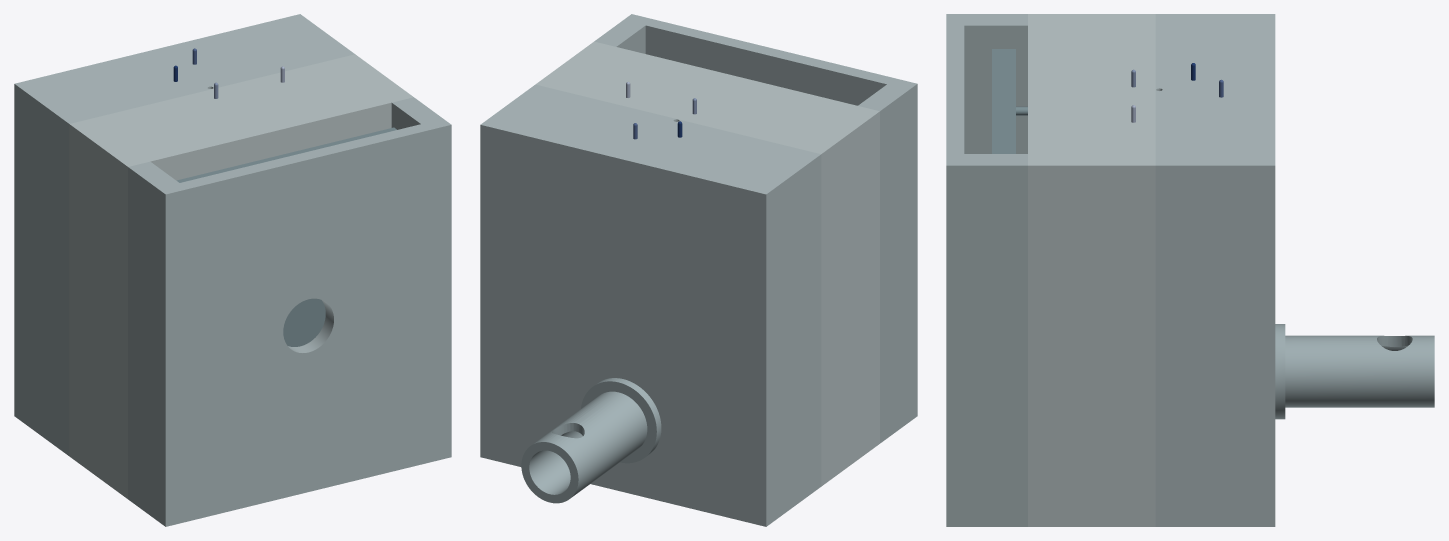
The model's file is die.glb.
The picture shows the model from 3 angles, left to right: view 1: azimuth 30°, elevation 25°; view 2: azimuth 150°, elevation 25°; view 3: azimuth 270°, elevation 25°; orthographic projection. The views are drawn at different scales.
Parts seen in each view (by area): view 1: ejBox_steel, movHalf_steel, fixHalf_steel, ejector_steel; view 2: fixHalf_steel, movHalf_steel, ejBox_steel, sleeve_steel; view 3: movHalf_steel, fixHalf_steel, ejBox_steel, sleeve_steel, ejector_steel.
Boxes of the visible parts, <box> form: ejBox_steel: <box>128,97,451,526</box>; movHalf_steel: <box>69,54,413,498</box>; fixHalf_steel: <box>14,14,354,455</box>; ejector_steel: <box>176,127,396,346</box>; fixHalf_steel: <box>480,84,821,526</box>; movHalf_steel: <box>535,41,879,486</box>; ejBox_steel: <box>594,14,917,443</box>; sleeve_steel: <box>521,378,661,503</box>; movHalf_steel: <box>1028,14,1155,526</box>; fixHalf_steel: <box>1155,14,1275,526</box>; ejBox_steel: <box>946,14,1027,526</box>; sleeve_steel: <box>1275,324,1434,419</box>; ejector_steel: <box>992,49,1015,153</box>.
Size of the model in its own units: 900 by 1092 by 1225.
